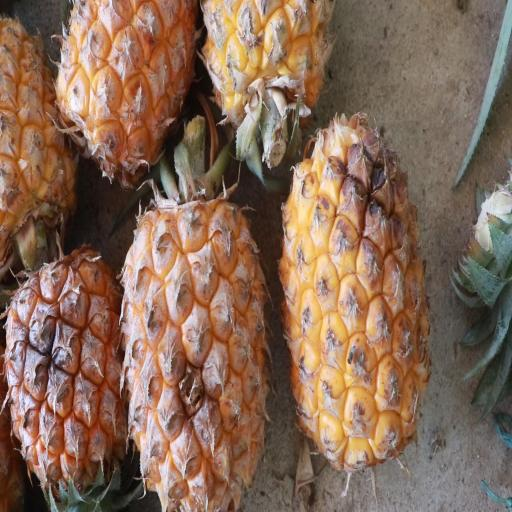Pineapple - v8 v1: (278, 105, 430, 464), (118, 161, 269, 509), (0, 243, 138, 512), (52, 0, 198, 188), (0, 0, 89, 266), (200, 0, 333, 176)
